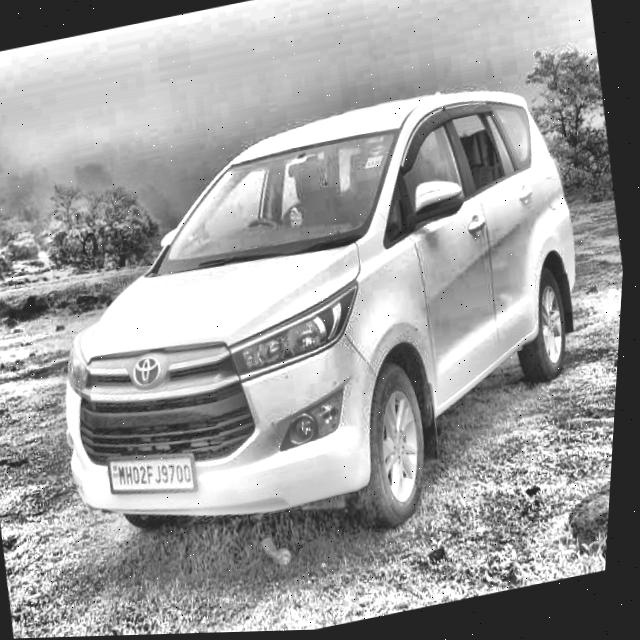light_vehicle: (17, 69, 631, 593)
